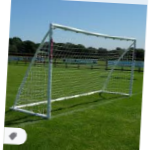goals: (10, 22, 138, 122)
